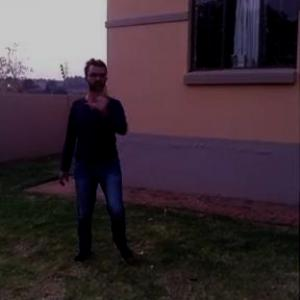follow_hand: (84, 80, 121, 112)
